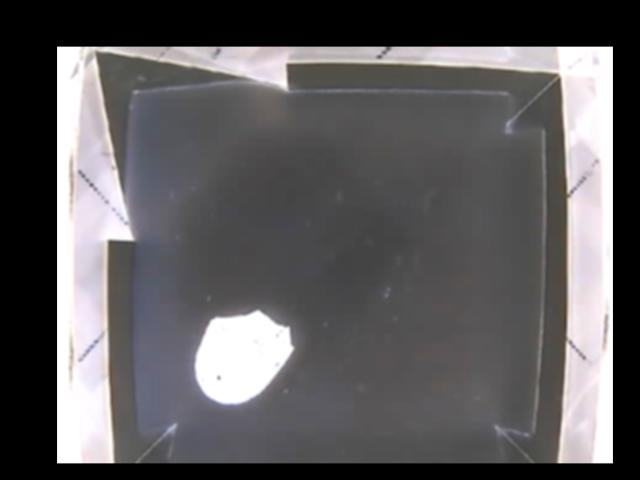Shell: (196, 307, 294, 402)
